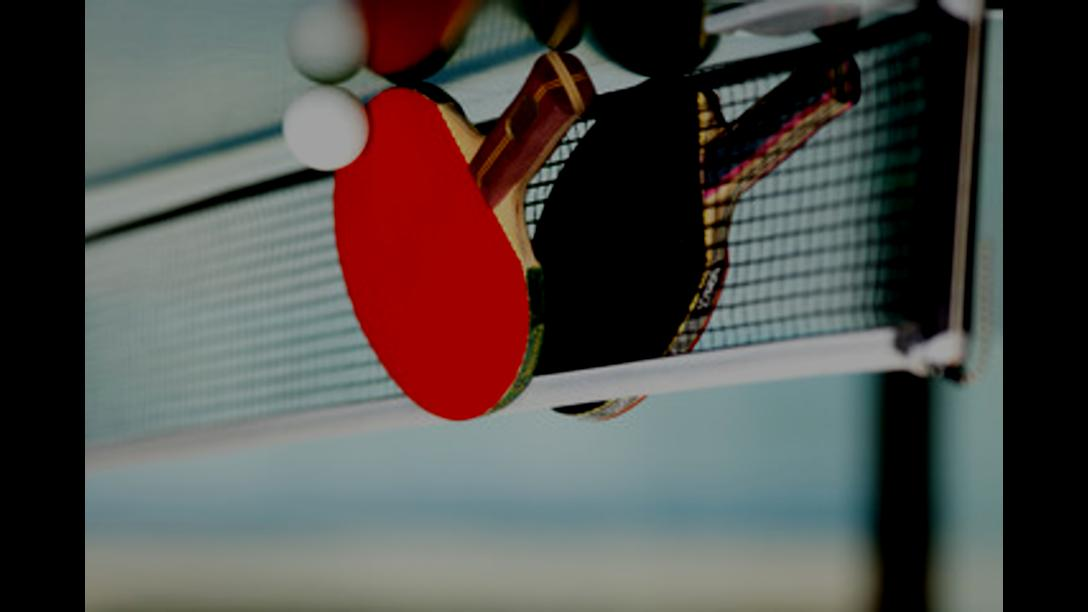Table-Tennis-Ball: (284, 84, 368, 170)
